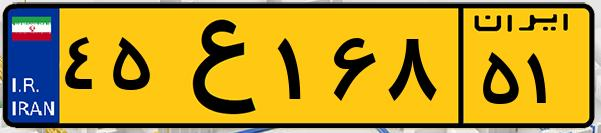1: (270, 28, 330, 110), (525, 38, 570, 115)
4: (57, 26, 110, 100)
5: (475, 38, 525, 113), (110, 28, 158, 98)
6: (330, 28, 385, 110)
8: (385, 28, 445, 110)
ع: (158, 12, 270, 120)
